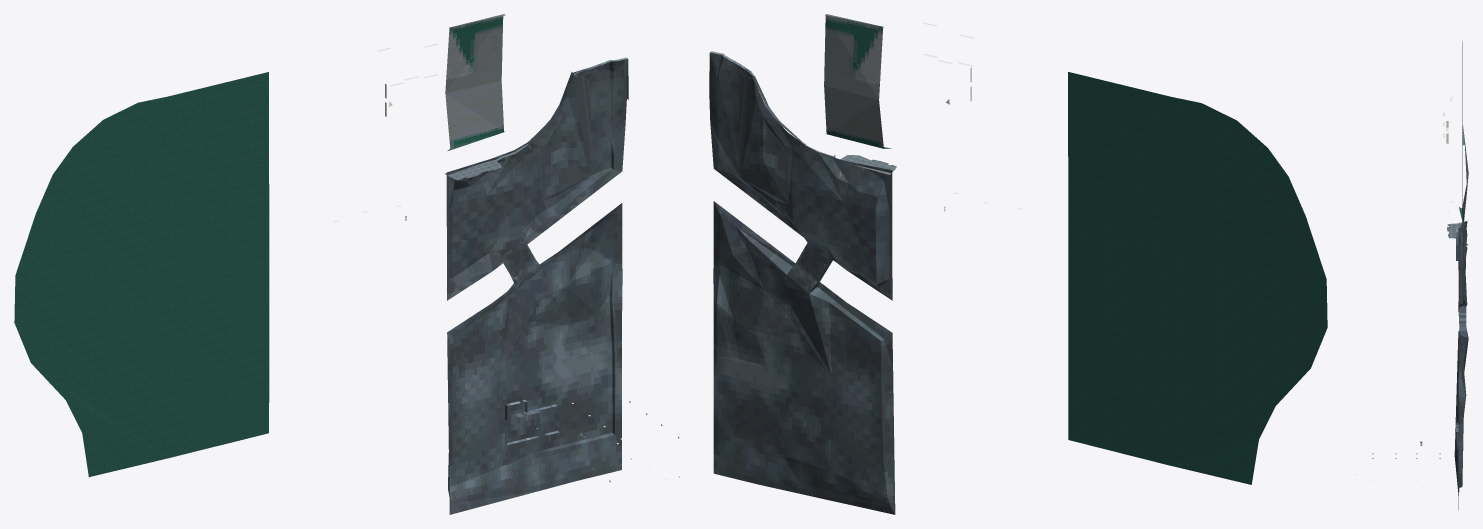
File: comntop_comntop__part_11.obj
3 renders of one model, left to right at view 1: azimuth 30°, elevation 25°; view 2: azimuth 150°, elevation 25°; view 3: azimuth 270°, elevation 25°, orthographic. The views are drawn at different scales.
Parts seen in each view (by area): view 1: comntop_comntop__part_11; view 2: comntop_comntop__part_11; view 3: comntop_comntop__part_11.
Boxes of the visible parts, <box> form: comntop_comntop__part_11: <box>14,14,679,514</box>; comntop_comntop__part_11: <box>709,14,1327,514</box>; comntop_comntop__part_11: <box>1356,41,1468,509</box>.
Size of the model in its own units: 609 by 462 by 141.
Materials: 19 (18 with a texture image).
